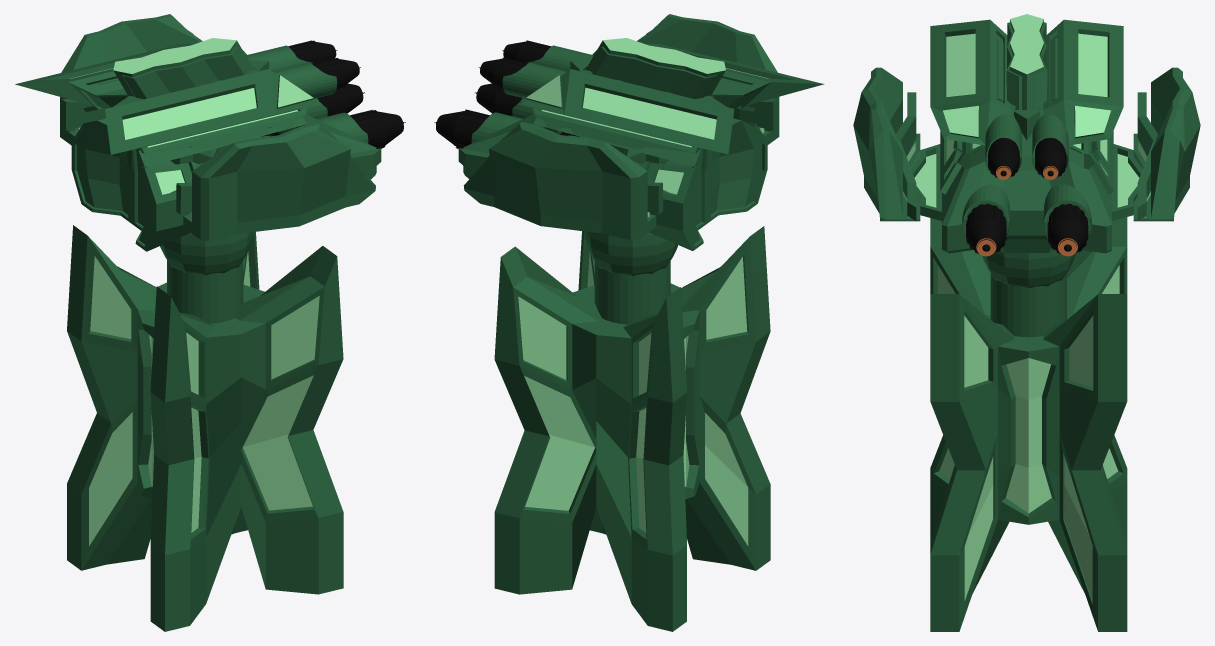
Rendered from MultipleMissileTower.fbx.
3 views of the same model, side by side, from view 1: azimuth 30°, elevation 25°; view 2: azimuth 150°, elevation 25°; view 3: azimuth 270°, elevation 25° (orthographic).
Visible parts, largest first — view 1: Cube, Corpus, Corpus.001, Missile.001, Missile, MissileModel.001, MissileModel; view 2: Cube, Corpus, Corpus.001, Missile, Missile.001, MissileModel, MissileModel.001; view 3: Cube, Corpus, Corpus.001, Missile, Missile.001, MissileModel.001, MissileModel.
Boxes of the visible parts, box(x1,y1,x2,y2) form: Cube: box(67, 225, 343, 631); Corpus: box(60, 14, 381, 251); Corpus.001: box(15, 38, 337, 154); Missile.001: box(271, 109, 405, 148); Missile: box(261, 83, 364, 136); MissileModel.001: box(311, 57, 360, 89); MissileModel: box(288, 40, 337, 62); Cube: box(494, 226, 770, 631); Corpus: box(458, 14, 779, 250); Corpus.001: box(502, 38, 824, 154); Missile: box(434, 109, 567, 148); Missile.001: box(475, 83, 579, 136); MissileModel: box(478, 57, 527, 89); MissileModel.001: box(502, 40, 551, 62); Cube: box(930, 217, 1127, 631); Corpus: box(853, 67, 1200, 253); Corpus.001: box(930, 14, 1123, 172); Missile: box(1047, 203, 1088, 256); Missile.001: box(966, 203, 1006, 256); MissileModel.001: box(988, 137, 1019, 179); MissileModel: box(1035, 137, 1066, 179).
Size of the model in its own units: 857 by 1338 by 796.
